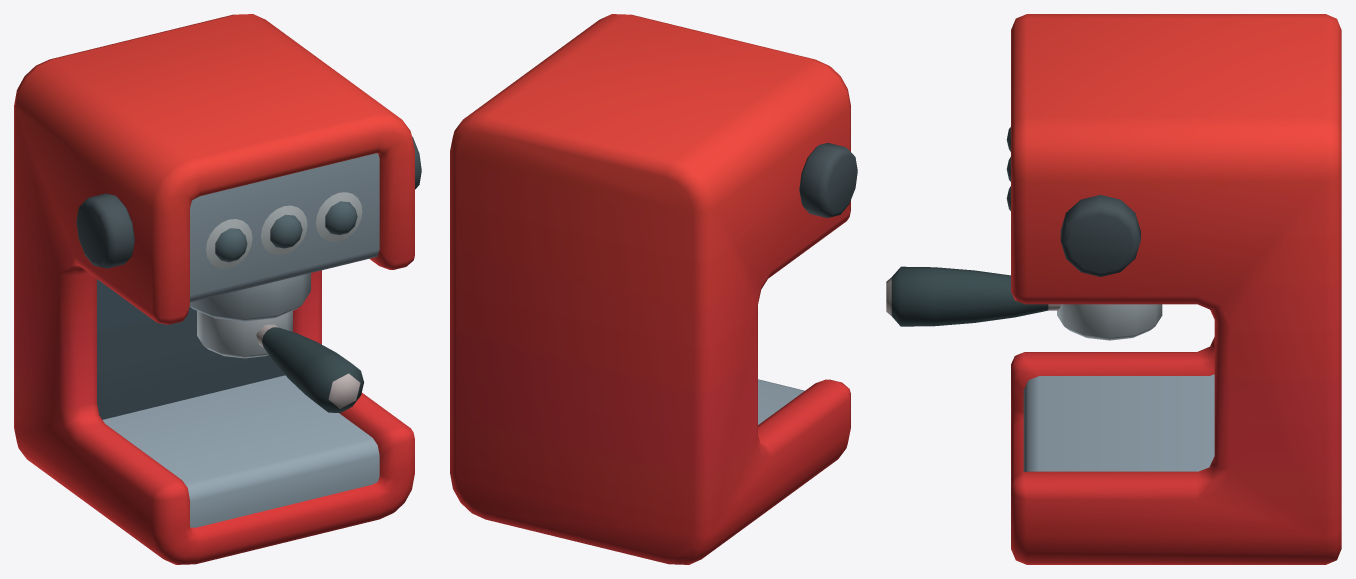
File: Coffee_Machine_02.glb
3 views of the same model, side by side, from view 1: azimuth 30°, elevation 25°; view 2: azimuth 150°, elevation 25°; view 3: azimuth 270°, elevation 25° (orthographic). The views are drawn at different scales.
Visible parts, largest first — view 1: Coffee_Machine_02; view 2: Coffee_Machine_02; view 3: Coffee_Machine_02.
Part boxes in pixels (box(x1,y1,x2,y2)): Coffee_Machine_02: box(14, 14, 421, 564); Coffee_Machine_02: box(450, 14, 857, 564); Coffee_Machine_02: box(886, 14, 1341, 564).
Bounding box in the file's own units: 0.3127 × 0.385 × 0.3581.
1 material, 1 textured.
